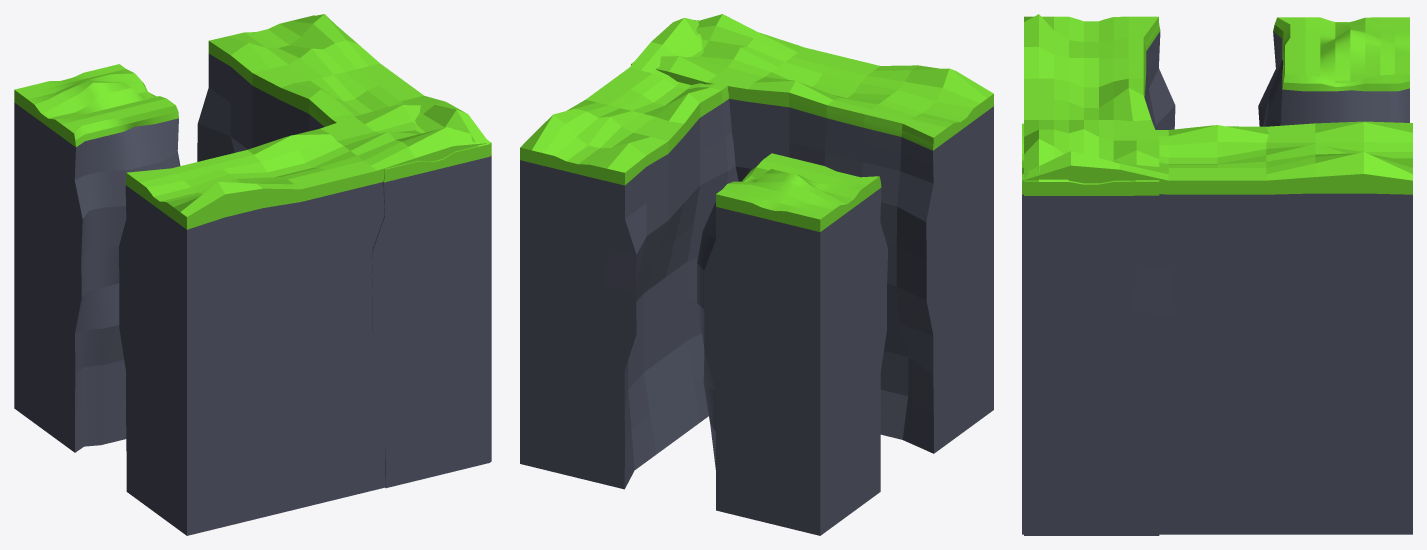
Rendered from BlockSet15.dae.
3 views of the same model, side by side, from view 1: azimuth 30°, elevation 25°; view 2: azimuth 150°, elevation 25°; view 3: azimuth 270°, elevation 25° (orthographic). The views are drawn at different scales.
Visible parts, largest first — view 1: BlockSet15Fin; view 2: BlockSet15Fin; view 3: BlockSet15Fin.
Part boxes in pixels (x1,y1,x2,y2): BlockSet15Fin: (14, 14, 491, 535); BlockSet15Fin: (520, 14, 993, 535); BlockSet15Fin: (1022, 14, 1412, 535).
Bounding box in the file's own units: 155 × 166 × 155.
